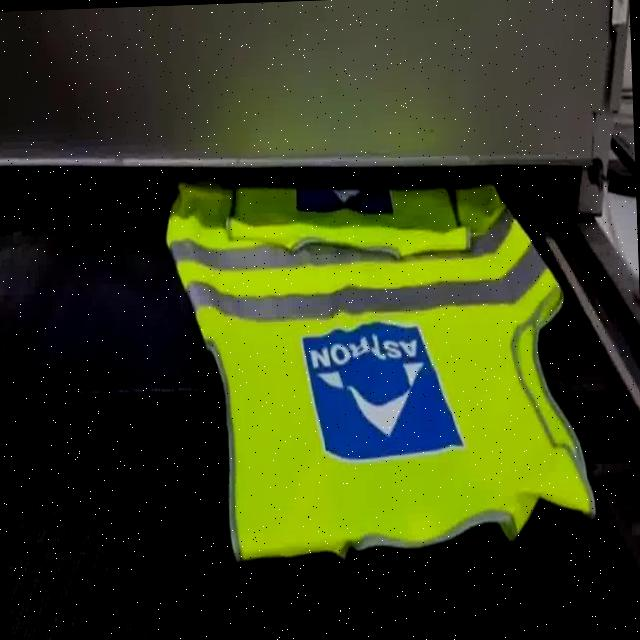vest: (162, 160, 600, 568)
